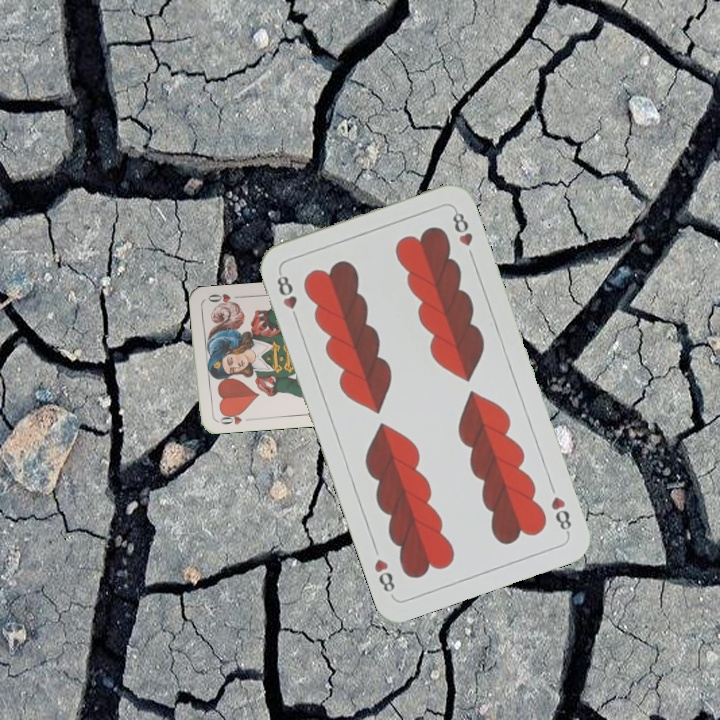H8: (272, 267, 302, 325), (547, 492, 574, 537)
HO: (212, 408, 253, 427)
